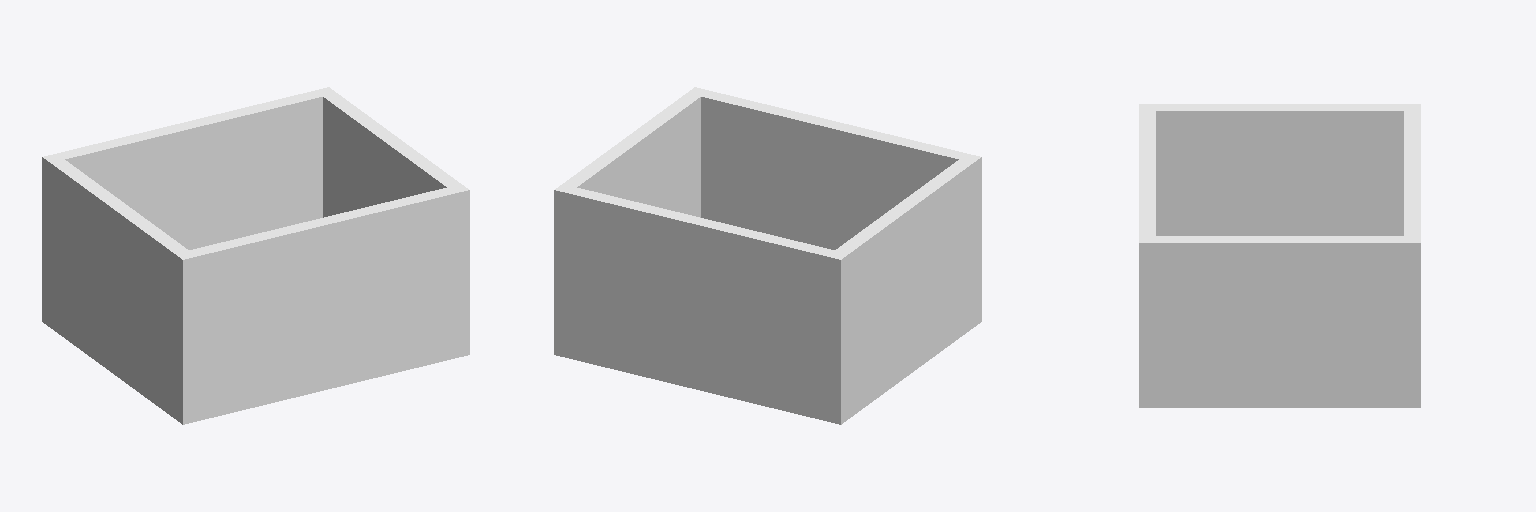
Rendered from snack.obj.
The picture shows the model from 3 angles: view 1: azimuth 30°, elevation 25°; view 2: azimuth 150°, elevation 25°; view 3: azimuth 270°, elevation 25°; orthographic projection.
Parts seen in each view (by area): view 1: object 1; view 2: object 1; view 3: object 1.
Boxes of the visible parts, box(x1,y1,x2,y2) form: object 1: box(42, 87, 469, 424); object 1: box(554, 87, 981, 424); object 1: box(1139, 104, 1420, 407).
Bounding box in the file's own units: 4 × 2.2 × 3.4.